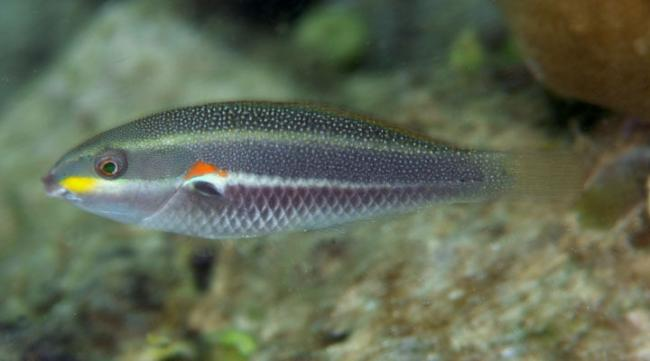fish: (41, 98, 585, 239)
